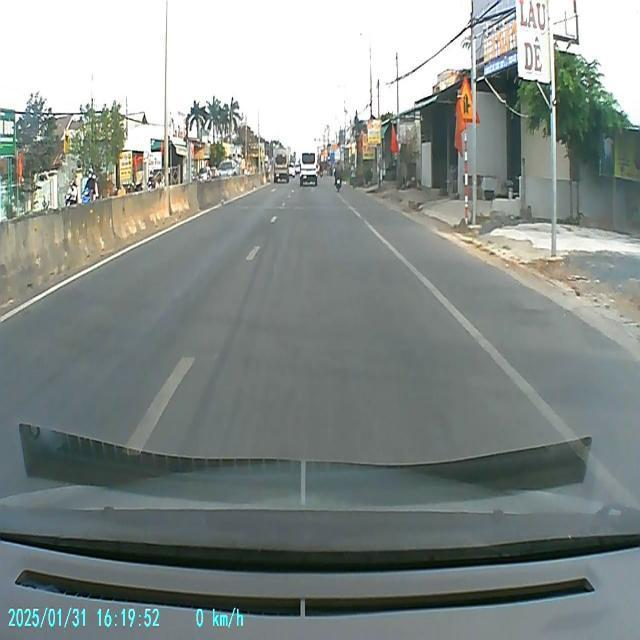207-giao-nhau-voi-duong-khong-uu-tien: (456, 77, 480, 127)
